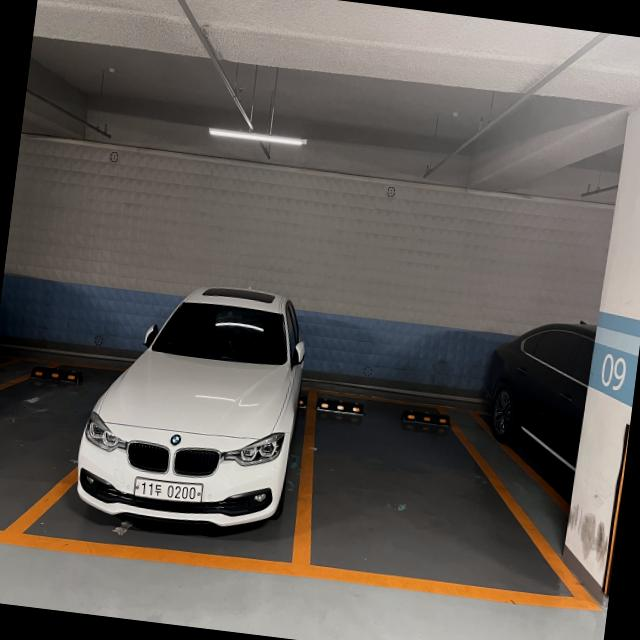car: (58, 244, 330, 556)
free: (283, 387, 605, 605)
